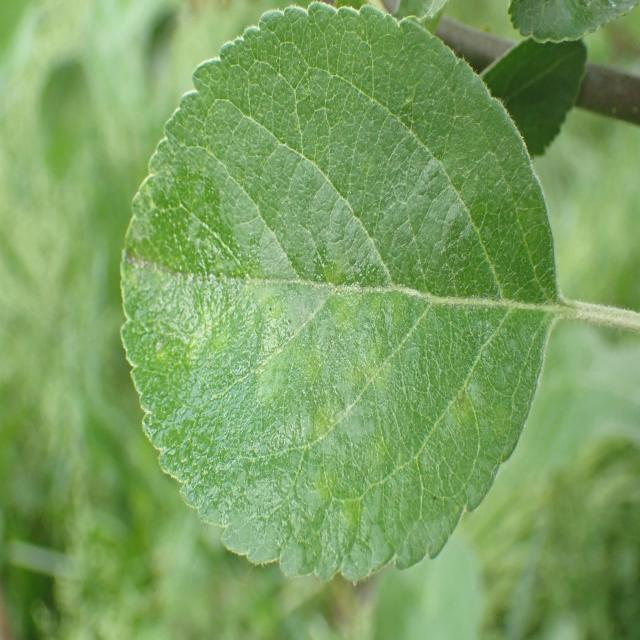scab: (110, 178, 534, 572)
